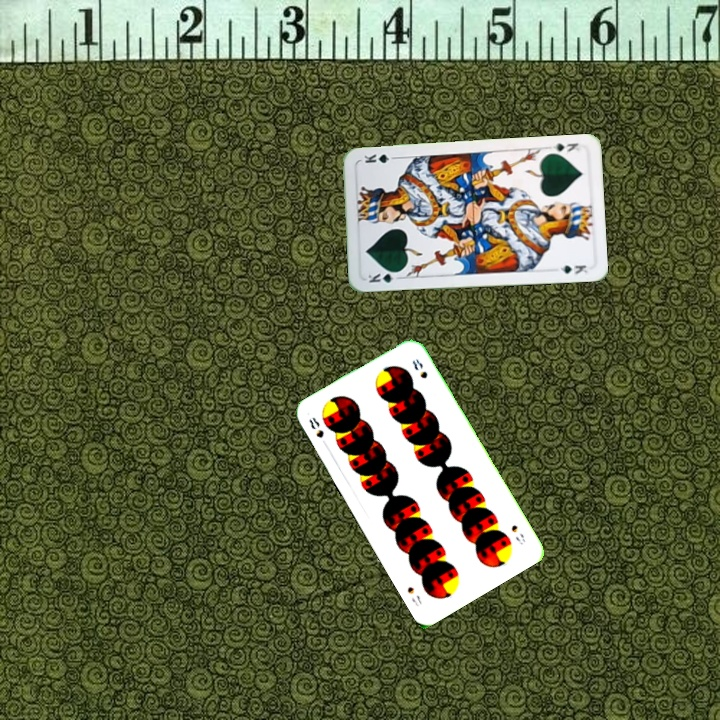GK: (545, 139, 582, 158), (364, 268, 403, 285)
S8: (305, 413, 327, 441), (507, 521, 527, 548)
